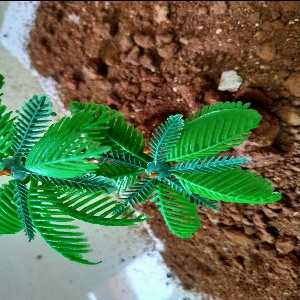plant: (1, 68, 283, 269)
